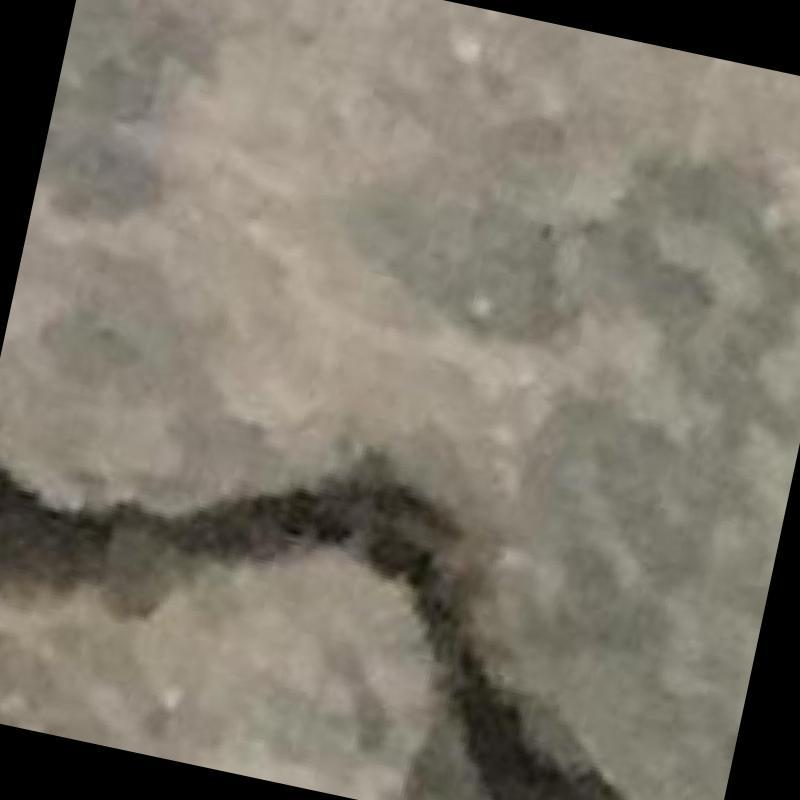crack: (0, 465, 623, 800)
